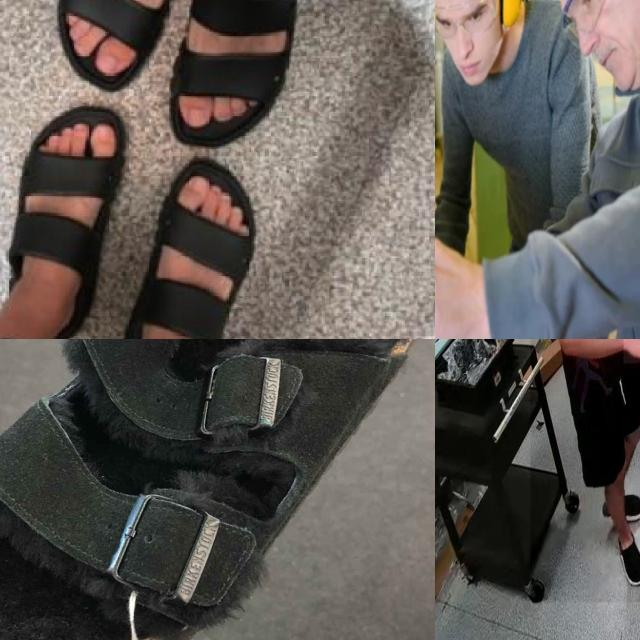Ear-protection: (435, 0, 534, 90), (550, 0, 640, 99)
Sandals: (0, 339, 435, 640), (0, 89, 129, 339), (145, 0, 325, 162), (122, 157, 268, 339), (44, 0, 188, 103)
glasses: (552, 0, 629, 61), (435, 0, 501, 38)
hand_noglove: (623, 339, 640, 364)
person: (530, 339, 640, 603)
shoes: (613, 522, 640, 585)
